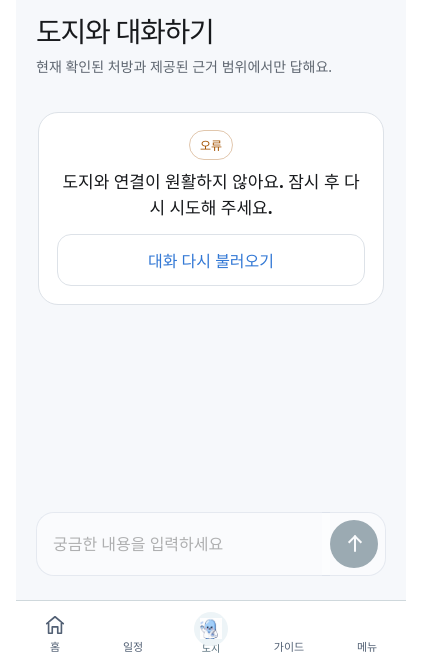
Test: ChatPage › API 오류를 안내하고 대화를 다시 불러올 수 있다
(page scrolled)
Expected: the heading "도지와 연결이 원활하지 않아요. 잠시 후 다시 시도해 주세요." is shown, [57,169,365,220]
Click the button "대화 다시 불러오기". click: [211, 260]
box: [57,234,365,286]
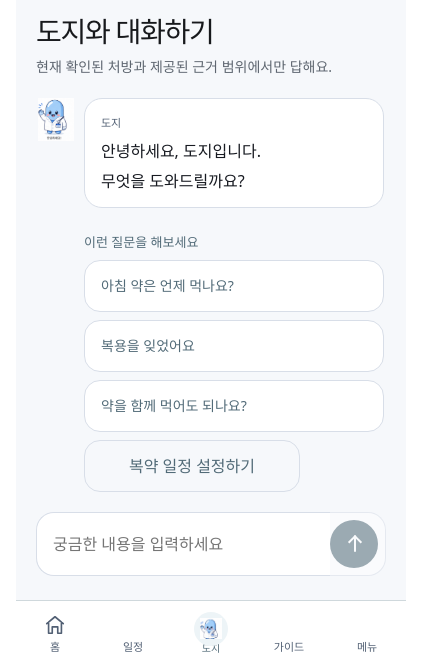
Result: the text "무엇을 도와드릴까요?" is shown at [101,170,245,192]
